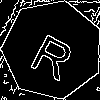R: (27, 25, 82, 82)
